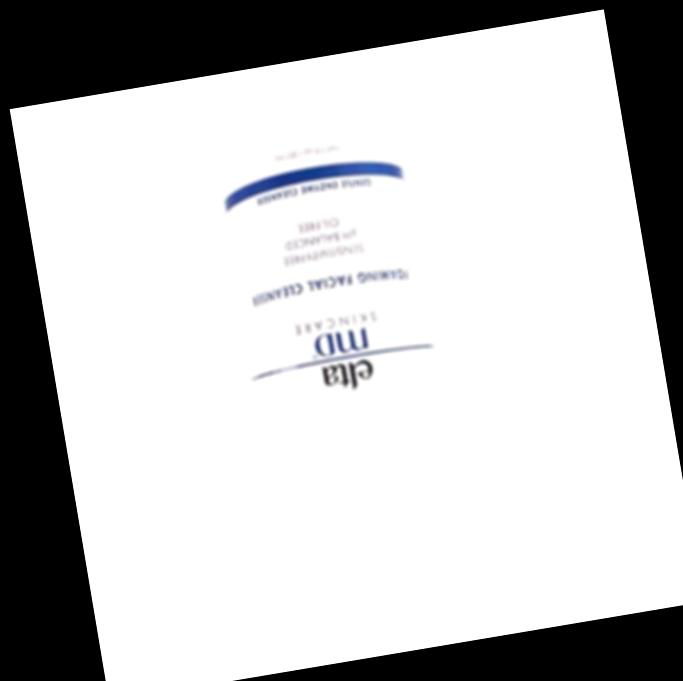cosmetic: (207, 96, 468, 619)
